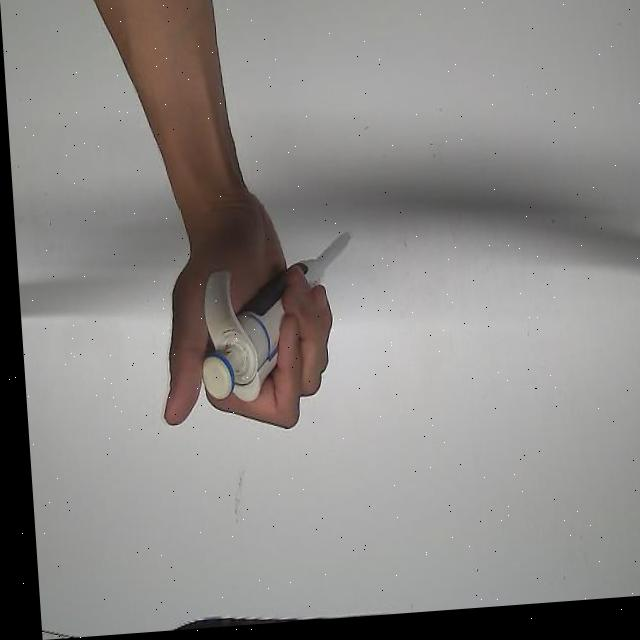Single Channel Pipettor: (192, 235, 359, 409)
